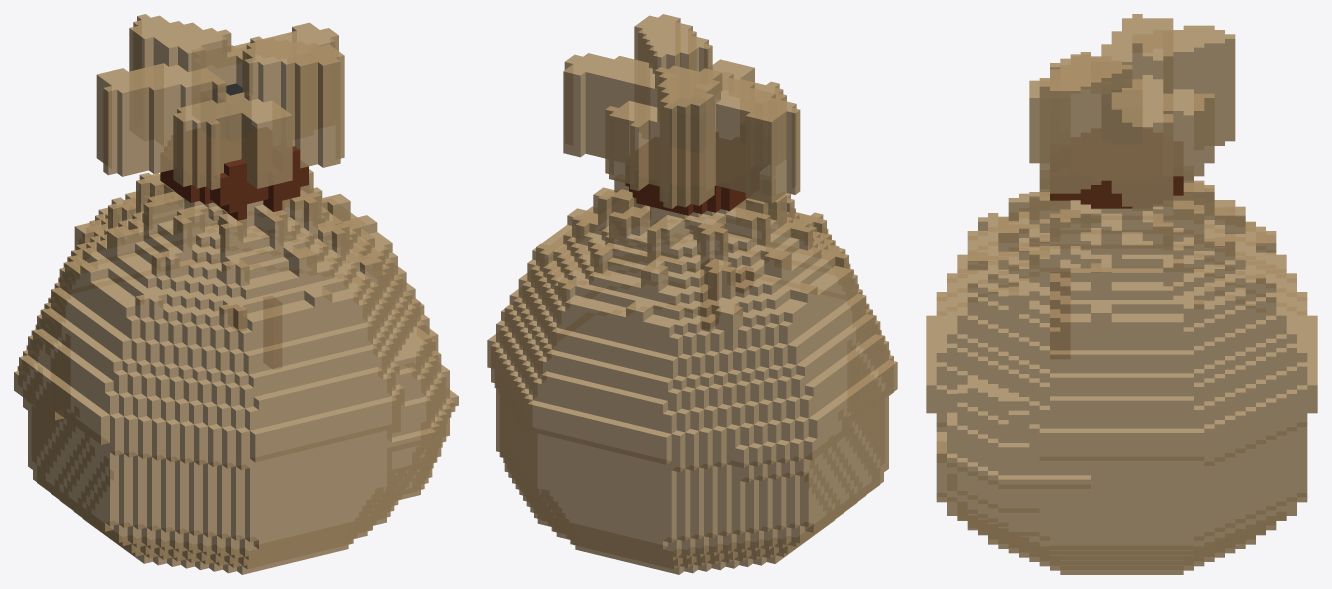
The model's file is hide_bag.glb.
The picture shows the model from 3 angles, left to right: view 1: azimuth 30°, elevation 25°; view 2: azimuth 150°, elevation 25°; view 3: azimuth 270°, elevation 25°; orthographic projection. The views are drawn at different scales.
Visible parts, largest first — view 1: hide_bag:compound; view 2: hide_bag:compound; view 3: hide_bag:compound.
Boxes of the visible parts, <box> form: hide_bag:compound: <box>14,14,458,574</box>; hide_bag:compound: <box>487,14,897,574</box>; hide_bag:compound: <box>926,14,1317,574</box>.
Size of the model in its own units: 0.152 by 0.2 by 0.152.
